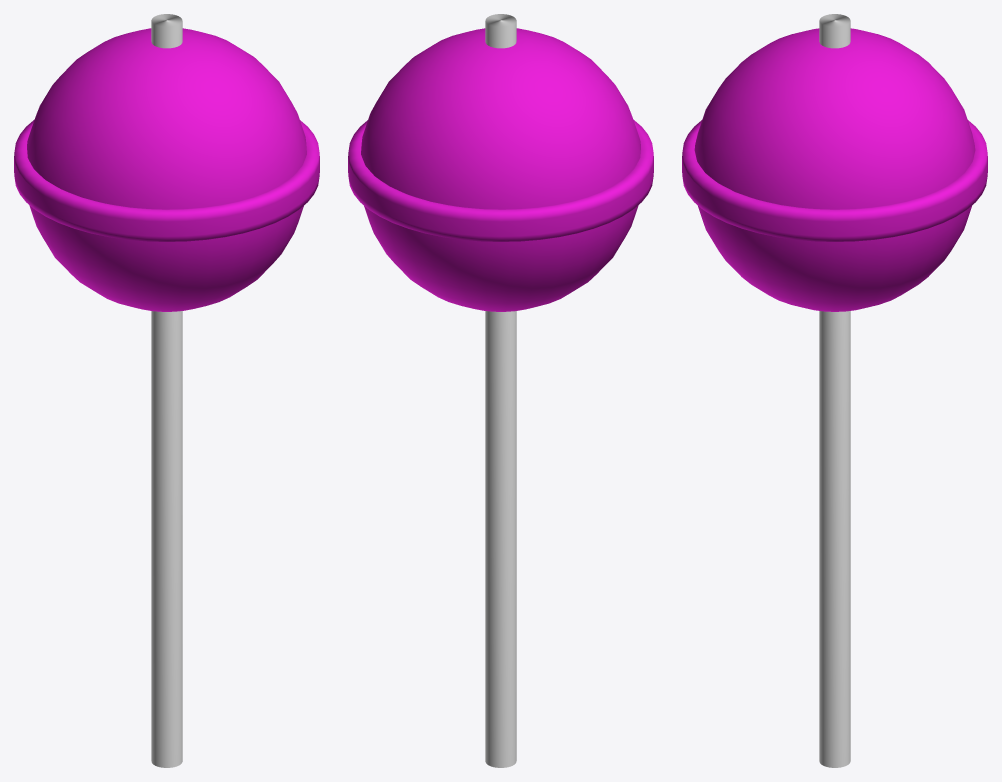
3 views of the same model, side by side, from view 1: azimuth 30°, elevation 25°; view 2: azimuth 150°, elevation 25°; view 3: azimuth 270°, elevation 25° (orthographic).
Visible parts, largest first — view 1: 球, 円柱, トーラス; view 2: 球, 円柱, トーラス; view 3: 球, 円柱, トーラス.
Part boxes in pixels (bbox=[...]): 球: bbox=[27, 28, 306, 311]; 円柱: bbox=[151, 14, 182, 767]; トーラス: bbox=[14, 119, 319, 241]; 球: bbox=[361, 28, 640, 311]; 円柱: bbox=[485, 14, 516, 767]; トーラス: bbox=[348, 119, 653, 241]; 球: bbox=[694, 28, 975, 311]; 円柱: bbox=[819, 14, 850, 767]; トーラス: bbox=[682, 120, 987, 241].
Bounding box in the file's own units: 212 × 567 × 212.
